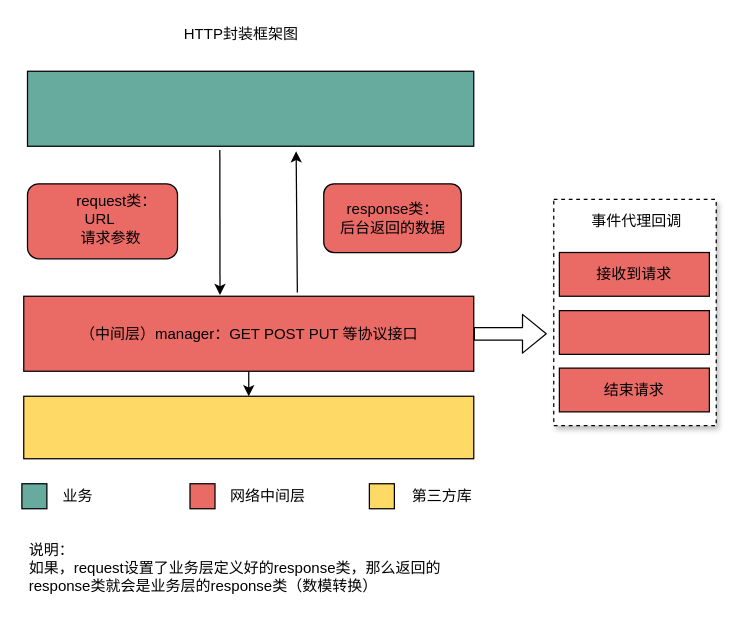
The diagram is 746 pixels wide and 630 high, and some of its shapes have lost their labels. Each missing label, with the centre of its shape:
业务层: [250,108]
准备请求: [633,331]
第三方库（AFN）: [248,427]
